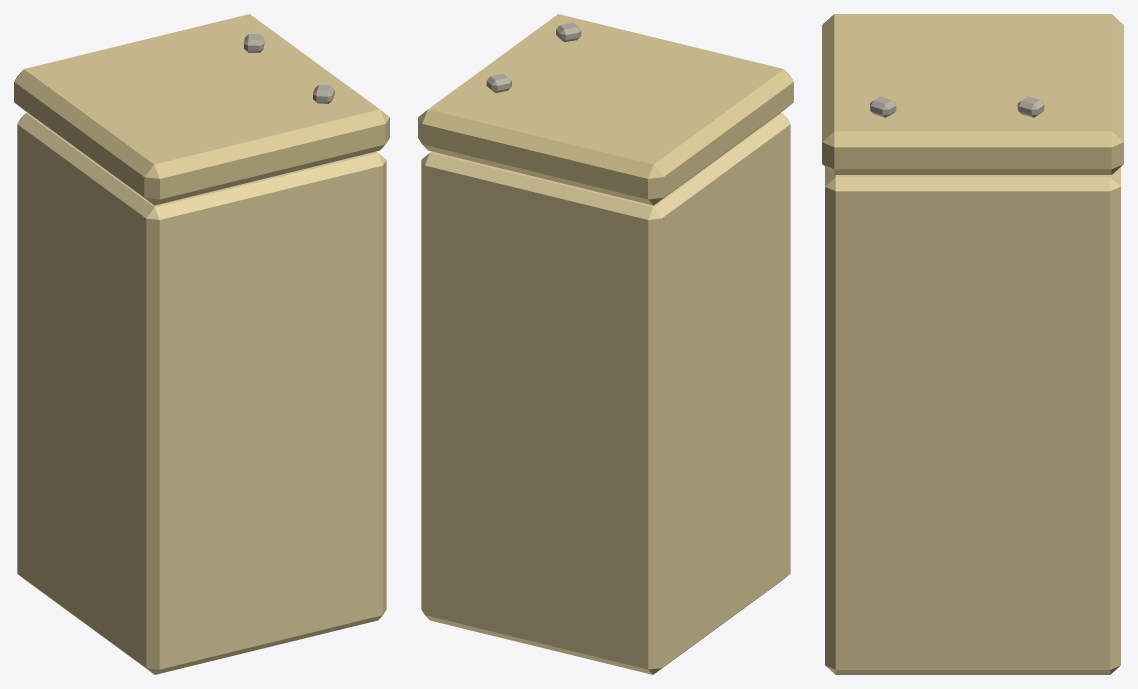
File: column-sea-1b.glb
3 renders of one model, left to right at view 1: azimuth 30°, elevation 25°; view 2: azimuth 150°, elevation 25°; view 3: azimuth 270°, elevation 25°, orthographic. The views are drawn at different scales.
Parts seen in each view (by area): view 1: column-sea-1b; view 2: column-sea-1b; view 3: column-sea-1b.
Part boxes in pixels (left/top/right/bottom): column-sea-1b: left=14, top=14, right=389, bottom=674; column-sea-1b: left=418, top=14, right=793, bottom=674; column-sea-1b: left=822, top=14, right=1123, bottom=674.
Size of the model in its own units: 1 by 2.04 by 1.
